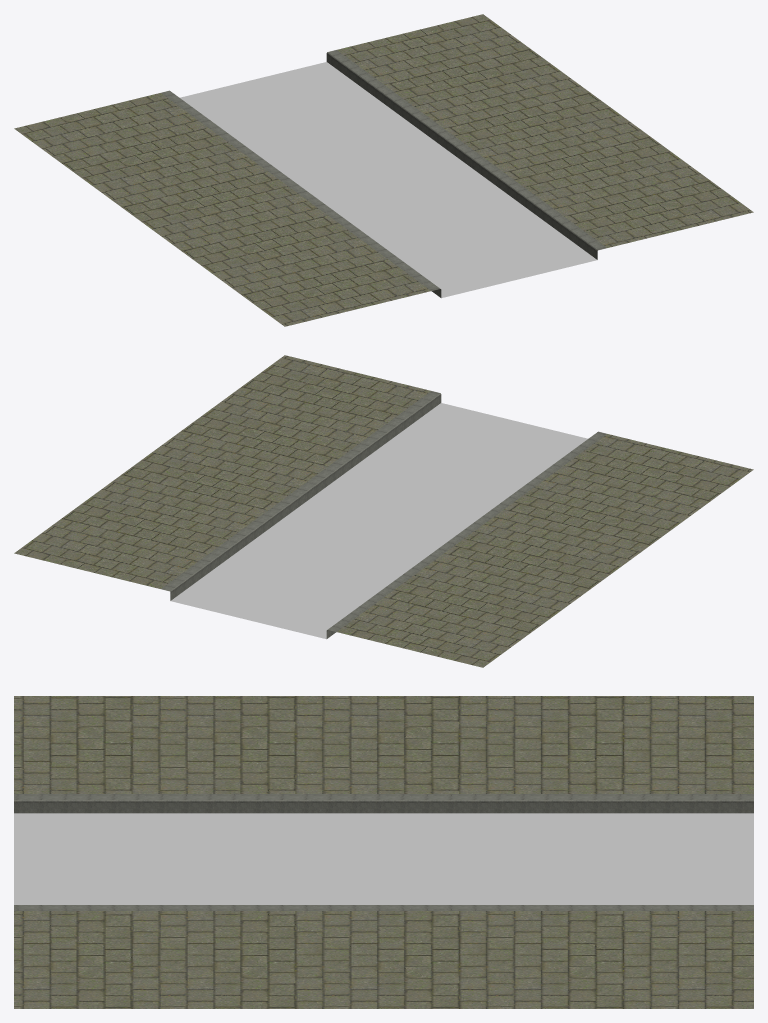
Rendered from CT_Road_Lane_01.fbx.
3 renders of one model, top to bottom at view 1: azimuth 30°, elevation 25°; view 2: azimuth 150°, elevation 25°; view 3: azimuth 270°, elevation 25°, orthographic. The views are drawn at different scales.
Parts seen in each view (by area): view 1: CT_Road_Lane_01; view 2: CT_Road_Lane_01; view 3: CT_Road_Lane_01.
Part boxes in pixels (bbox=[...]): CT_Road_Lane_01: bbox=[14, 14, 753, 326]; CT_Road_Lane_01: bbox=[14, 355, 753, 667]; CT_Road_Lane_01: bbox=[14, 696, 753, 1008].
Bounding box in the file's own units: 768 × 15 × 768.
